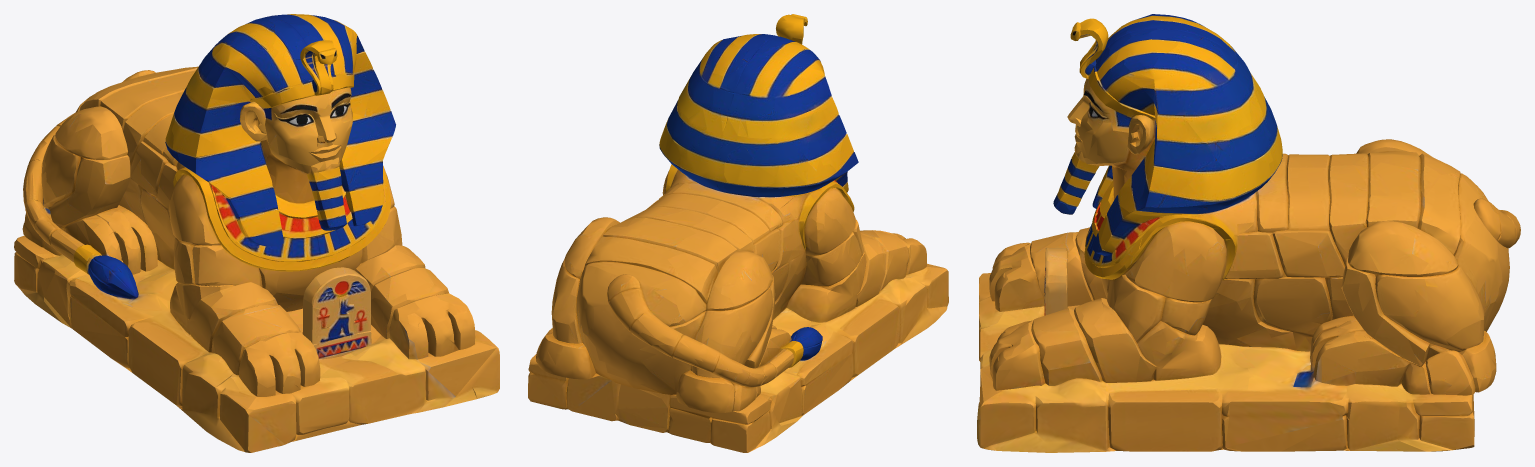
Rendered from sphinx.glb.
3 renders of one model, left to right at view 1: azimuth 30°, elevation 25°; view 2: azimuth 150°, elevation 25°; view 3: azimuth 270°, elevation 25°, orthographic. The views are drawn at different scales.
Parts seen in each view (by area): view 1: sphinx; view 2: sphinx; view 3: sphinx.
Boxes of the visible parts, x1=… form: sphinx: x1=14, y1=14, x2=499, y2=452; sphinx: x1=528, y1=14, x2=948, y2=452; sphinx: x1=977, y1=14, x2=1520, y2=452.
Bounding box in the file's own units: 16.5 × 20 × 27.35.
Materials: 1 (1 with a texture image).
